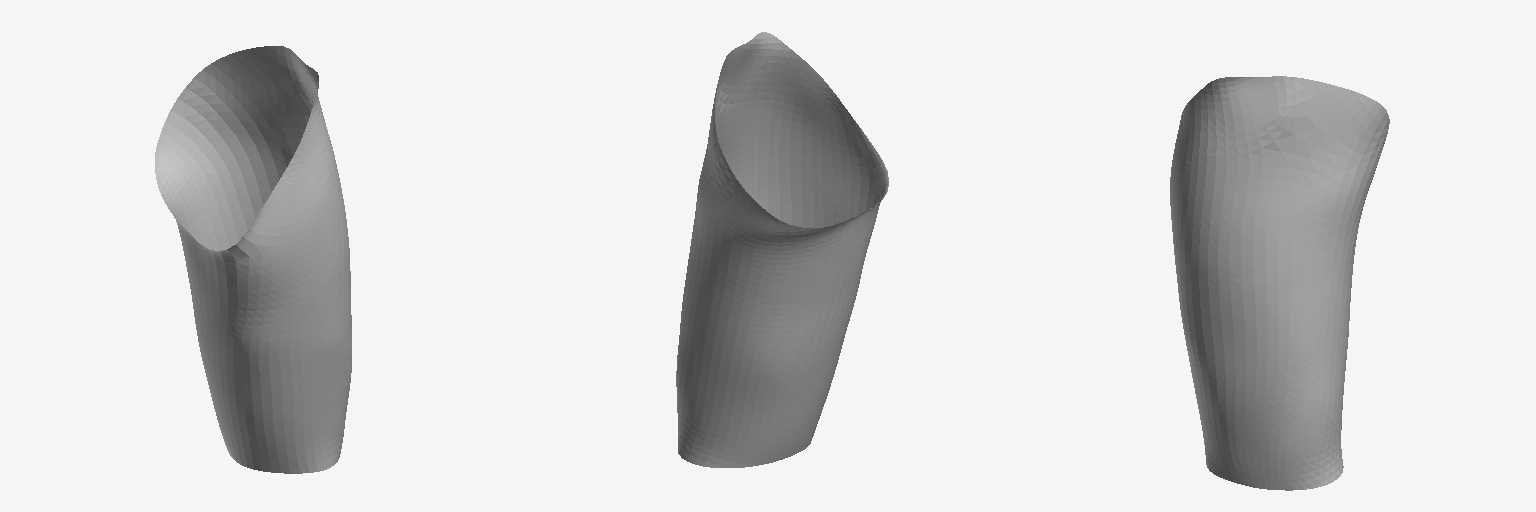
The model's file is coapsaS.obj.
3 renders of one model, left to right at view 1: azimuth 30°, elevation 25°; view 2: azimuth 150°, elevation 25°; view 3: azimuth 270°, elevation 25°, orthographic.
Visible parts, largest first — view 1: coapsaS; view 2: coapsaS; view 3: coapsaS.
Part boxes in pixels (bbox=[...]): coapsaS: bbox=[155, 46, 351, 473]; coapsaS: bbox=[676, 32, 888, 467]; coapsaS: bbox=[1170, 76, 1389, 490].
Bounding box in the file's own units: 2.23 × 5.17 × 2.61.